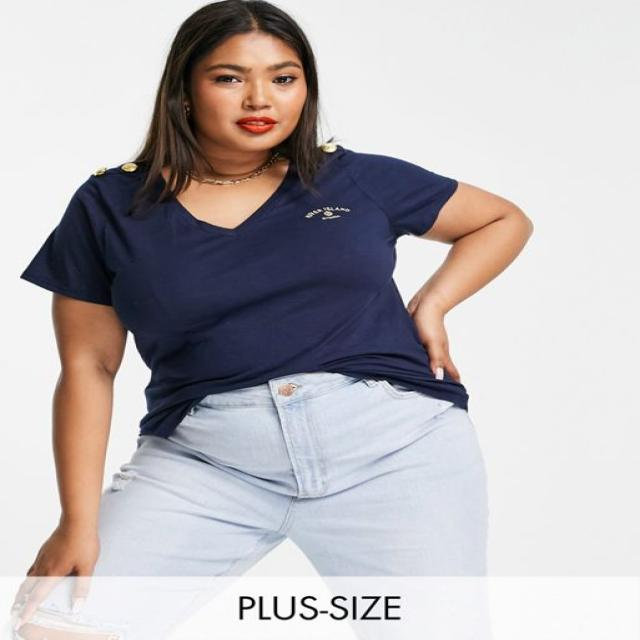tshirt: (20, 140, 472, 437)
